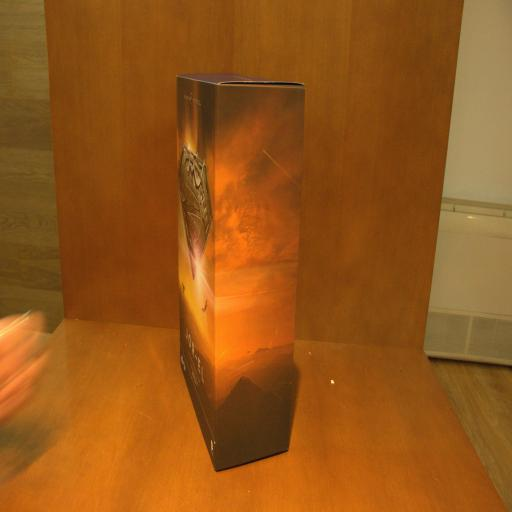superman: (176, 73, 305, 473)
